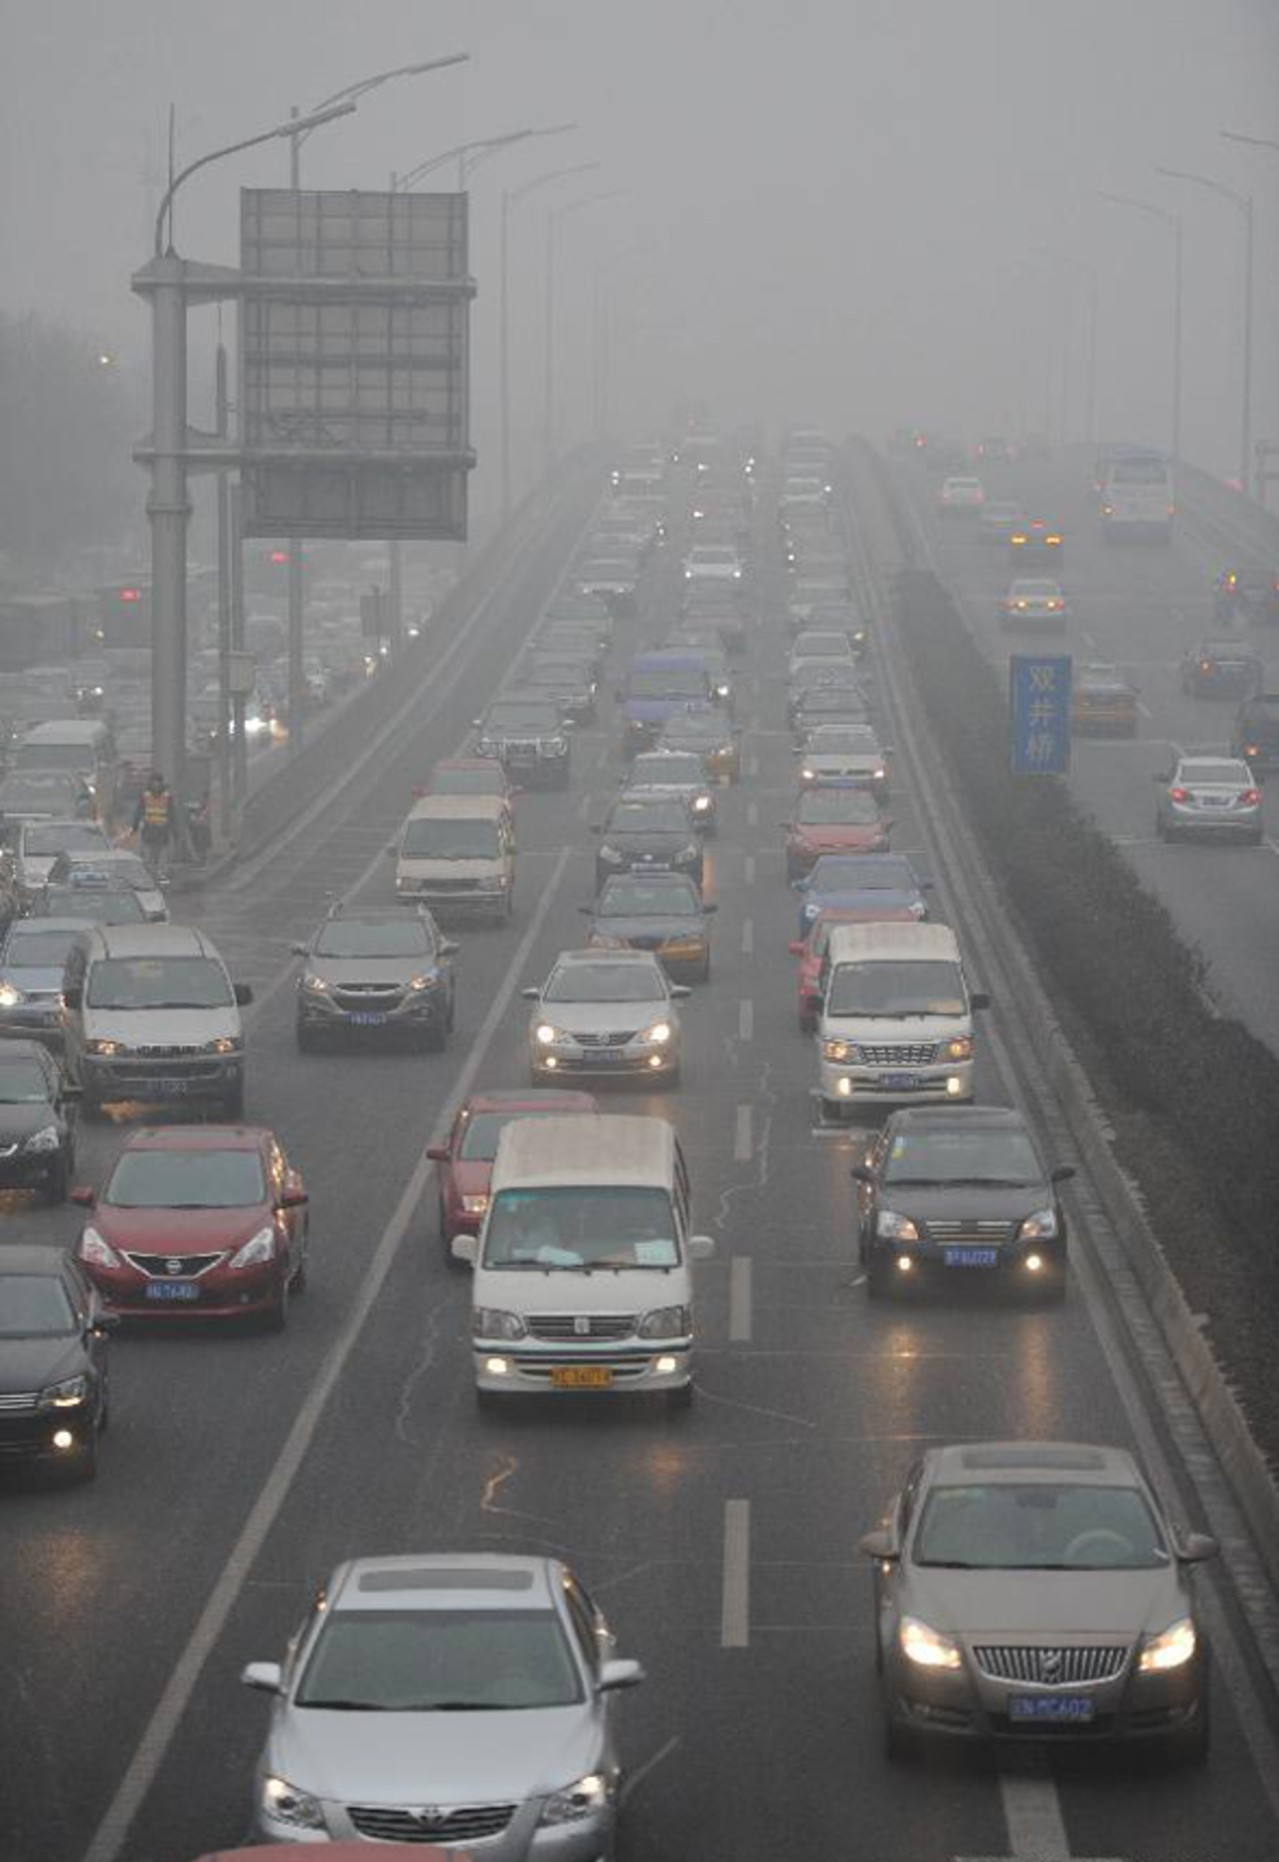car: (230, 1547, 640, 1860), (871, 1448, 1212, 1773), (466, 1125, 702, 1414), (71, 1120, 311, 1325), (856, 1107, 1071, 1303), (70, 930, 247, 1120), (814, 928, 979, 1114), (429, 1087, 599, 1260), (0, 1242, 109, 1489), (295, 911, 460, 1051), (532, 949, 682, 1087), (583, 869, 713, 989), (0, 1020, 79, 1215), (391, 796, 513, 919), (4, 904, 93, 1034), (50, 842, 170, 923), (799, 851, 928, 926), (14, 712, 119, 803), (1158, 751, 1265, 838), (585, 799, 693, 878), (1088, 447, 1173, 544), (622, 754, 714, 841), (620, 659, 706, 752), (474, 699, 571, 779), (784, 784, 890, 856), (797, 728, 893, 806), (9, 770, 100, 842), (1058, 656, 1139, 737), (655, 710, 744, 783), (514, 658, 596, 721), (1178, 630, 1251, 702), (789, 685, 872, 735), (572, 560, 639, 614), (1002, 579, 1068, 630), (806, 602, 868, 652), (531, 630, 603, 674), (544, 599, 609, 644), (681, 601, 746, 645), (785, 634, 854, 673), (665, 624, 728, 664), (1010, 521, 1064, 568), (977, 502, 1031, 549), (682, 548, 741, 586), (939, 480, 990, 516)
person: (134, 772, 176, 869)
